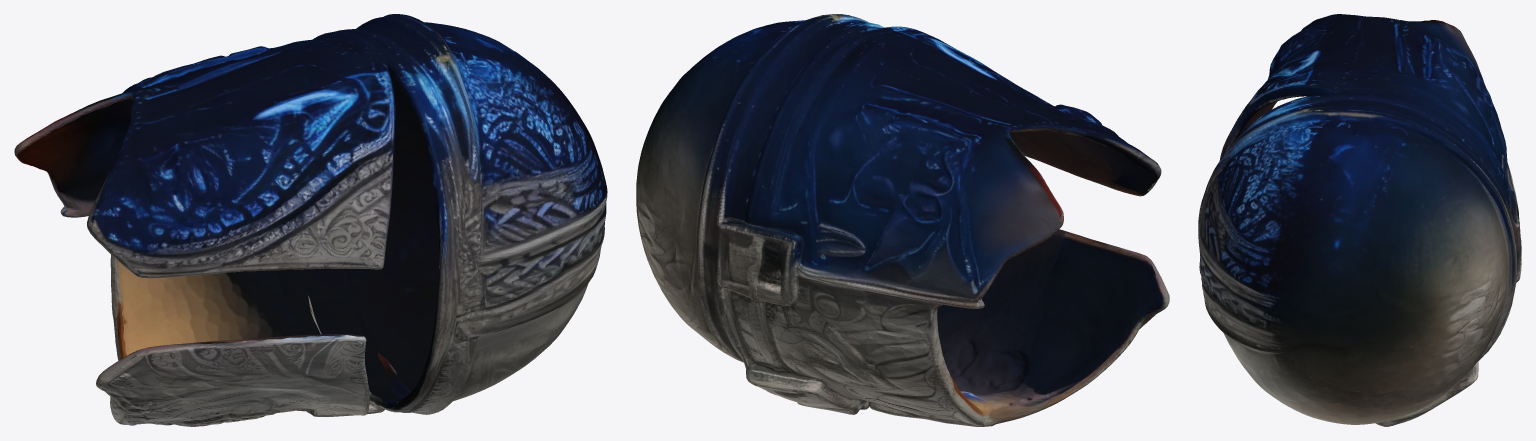
Rendered from charcoal-mandalorian.glb.
3 renders of one model, left to right at view 1: azimuth 30°, elevation 25°; view 2: azimuth 150°, elevation 25°; view 3: azimuth 270°, elevation 25°, orthographic. The views are drawn at different scales.
Visible parts, largest first — view 1: charcoal mandalorian_textured.obj; view 2: charcoal mandalorian_textured.obj; view 3: charcoal mandalorian_textured.obj.
Part boxes in pixels (left/top/right/bottom): charcoal mandalorian_textured.obj: left=14, top=14, right=607, bottom=426; charcoal mandalorian_textured.obj: left=636, top=14, right=1169, bottom=426; charcoal mandalorian_textured.obj: left=1198, top=14, right=1521, bottom=426.
Size of the model in its own units: 1.99 by 1.41 by 1.26.
Materials: 1 (1 with a texture image).
